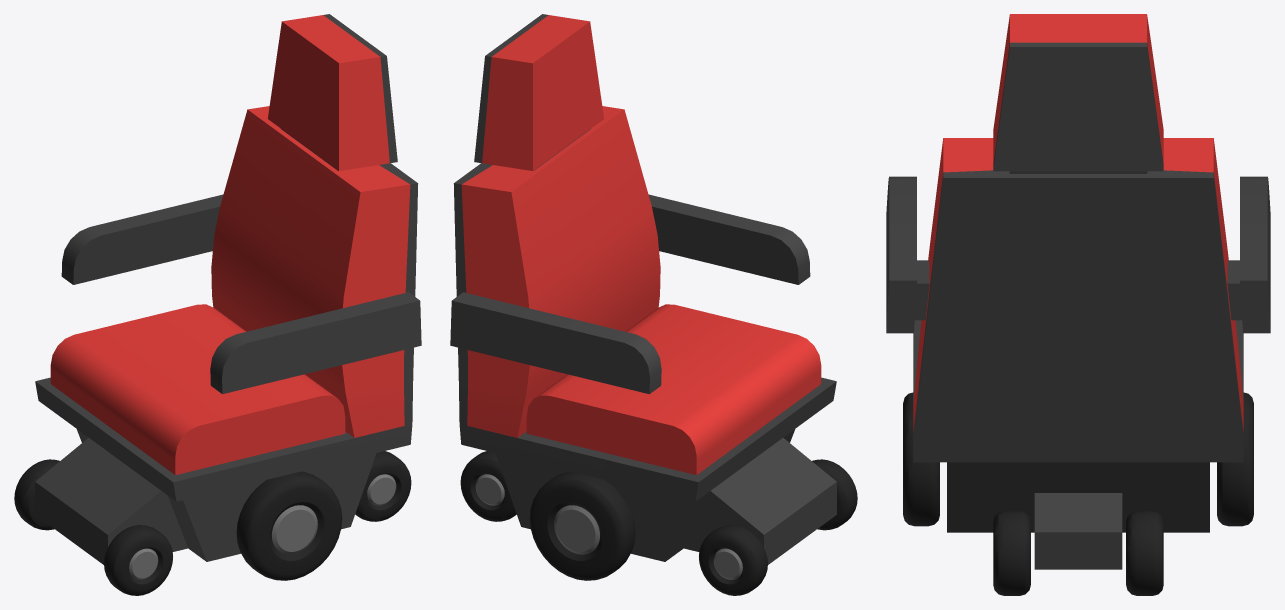
Rendered from motorized_wheelchair.fbx.
3 views of the same model, side by side, from view 1: azimuth 30°, elevation 25°; view 2: azimuth 150°, elevation 25°; view 3: azimuth 270°, elevation 25° (orthographic). The views are drawn at different scales.
Visible parts, largest first — view 1: Cube.738; view 2: Cube.738; view 3: Cube.738.
Part boxes in pixels (<box>): Cube.738: <box>14,14,421,595</box>; Cube.738: <box>450,14,857,595</box>; Cube.738: <box>886,14,1270,595</box>.
Size of the model in its own units: 159 by 224 by 140.
Materials: 1 (1 with a texture image).
